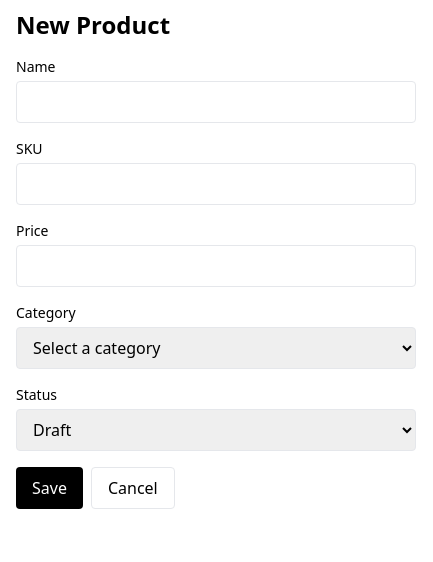
ProductFormPage › shows an error message when saving fails
The image size is (433, 562).
Type "Mouse" into the field labelled "Name" at (216, 102), box [16,81,416,123]
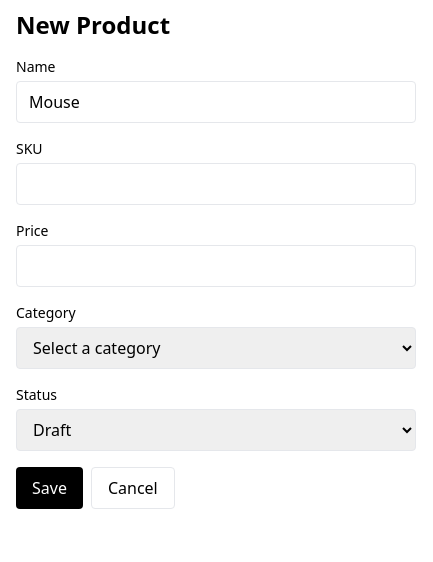
Type "SKU-1" into the field labelled "SKU" at (216, 184), box [16,163,416,205]
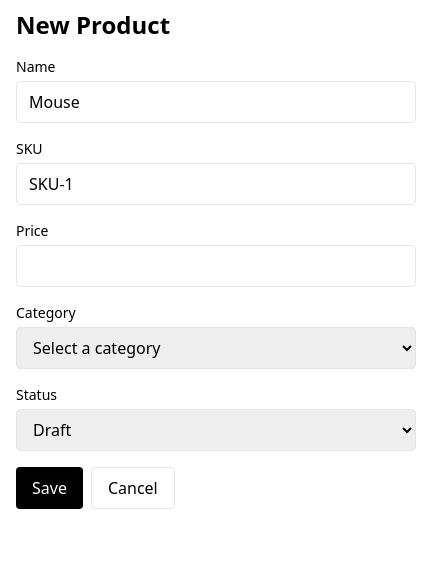
Type "10" into the number field labelled "Price" at (216, 266), box [16,245,416,287]
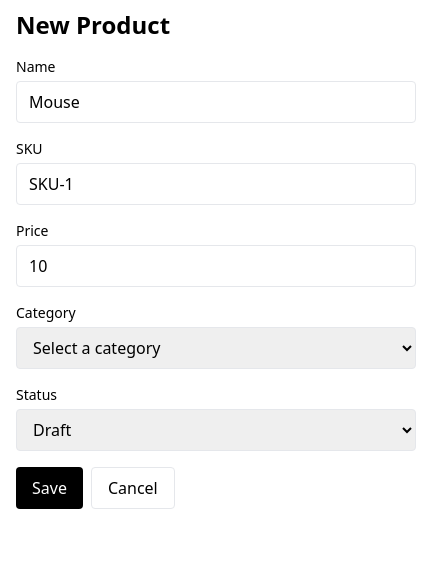
Select "Electronics" in the dropdown labelled "Category" at (216, 348), box [16,327,416,369]
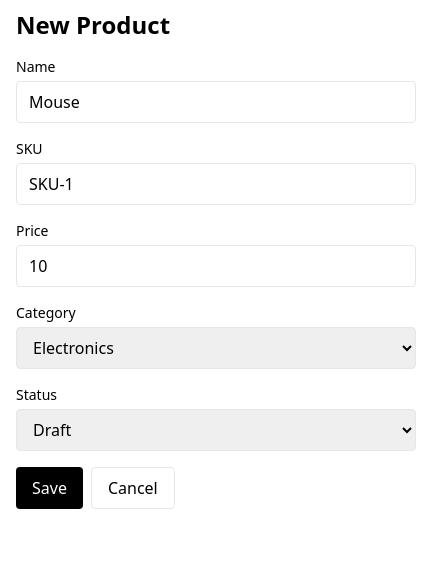
Click the button "Save" at (49, 488), box [16,467,83,509]
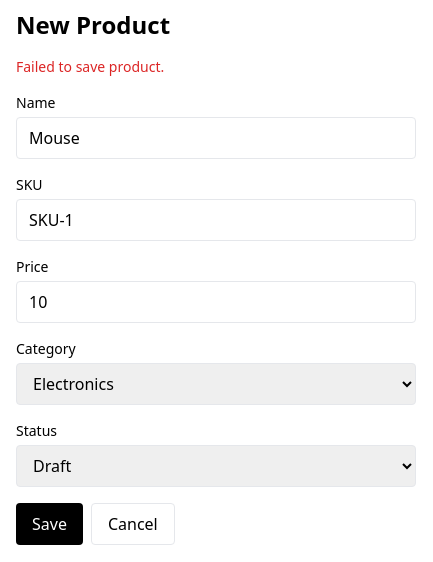
Check: the message "Failed to save product." is shown, box [16,57,164,76]
